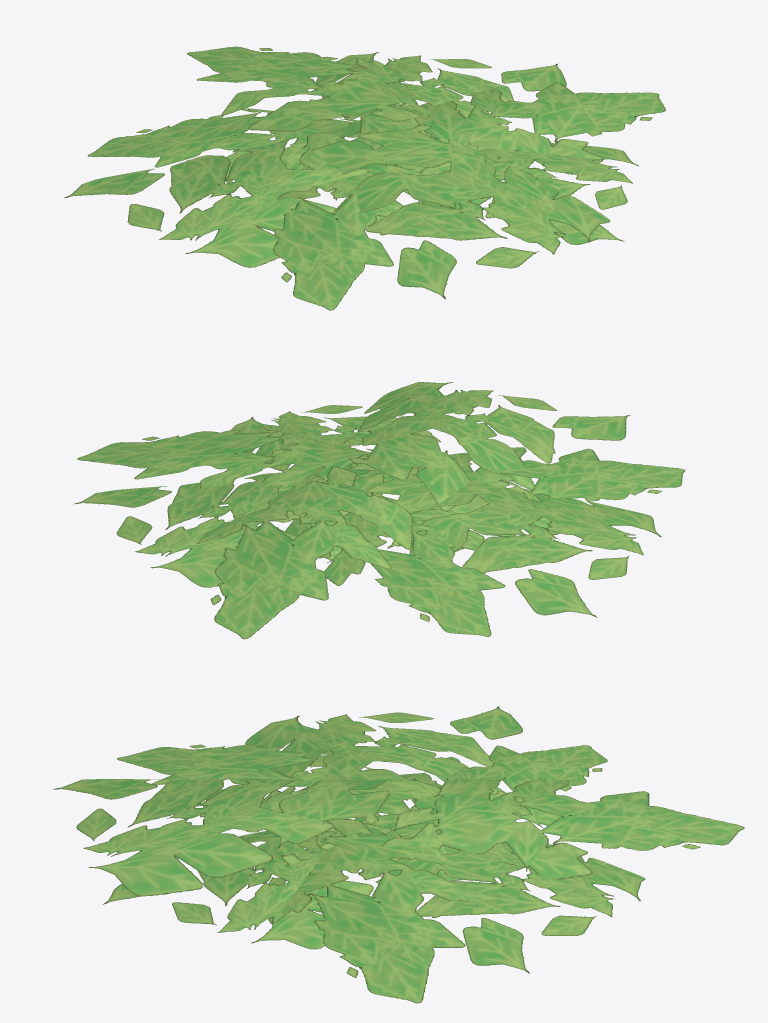
File: LeafSetF_18.fbx
The picture shows the model from 3 angles, top to bottom: view 1: azimuth 30°, elevation 25°; view 2: azimuth 150°, elevation 25°; view 3: azimuth 270°, elevation 25°; orthographic projection. The views are drawn at different scales.
Visible parts, largest first — view 1: LeafSetF_18; view 2: LeafSetF_18; view 3: LeafSetF_18.
Boxes of the visible parts, bbox=[...] form: LeafSetF_18: bbox=[64, 46, 665, 310]; LeafSetF_18: bbox=[73, 382, 685, 639]; LeafSetF_18: bbox=[53, 706, 744, 1003].
Bounding box in the file's own units: 1.59 × 0.1179 × 1.59.
